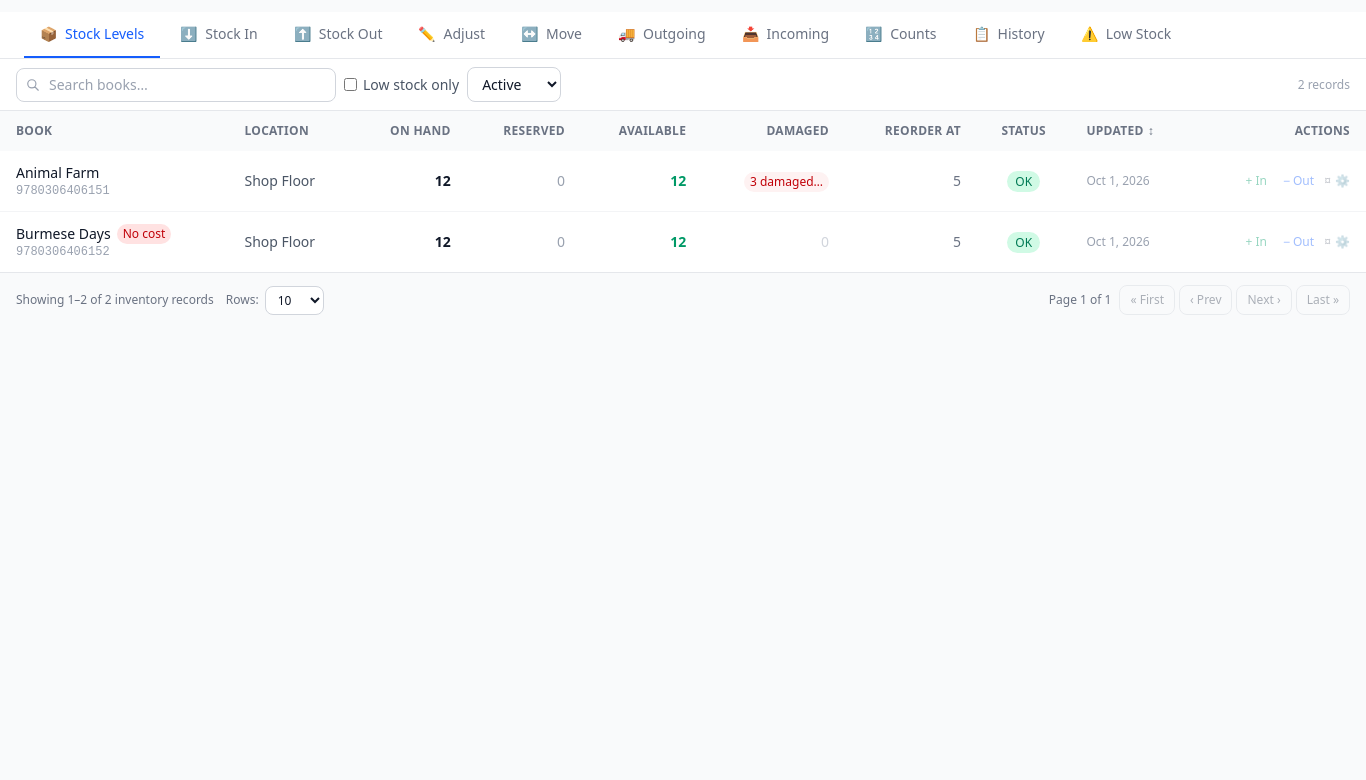
Test: Inventory: who may change stock › opens Stock Out with the row chosen from its "− Out" (was: an empty form)
The width and height of the screenshot is (1366, 780).
Expected: the text "Animal Farm" is shown, [16,163,99,183]
Click the button titled "Stock Out" in the row of "Animal Farm".
click(1299, 181)  # box [1277,171,1320,191]
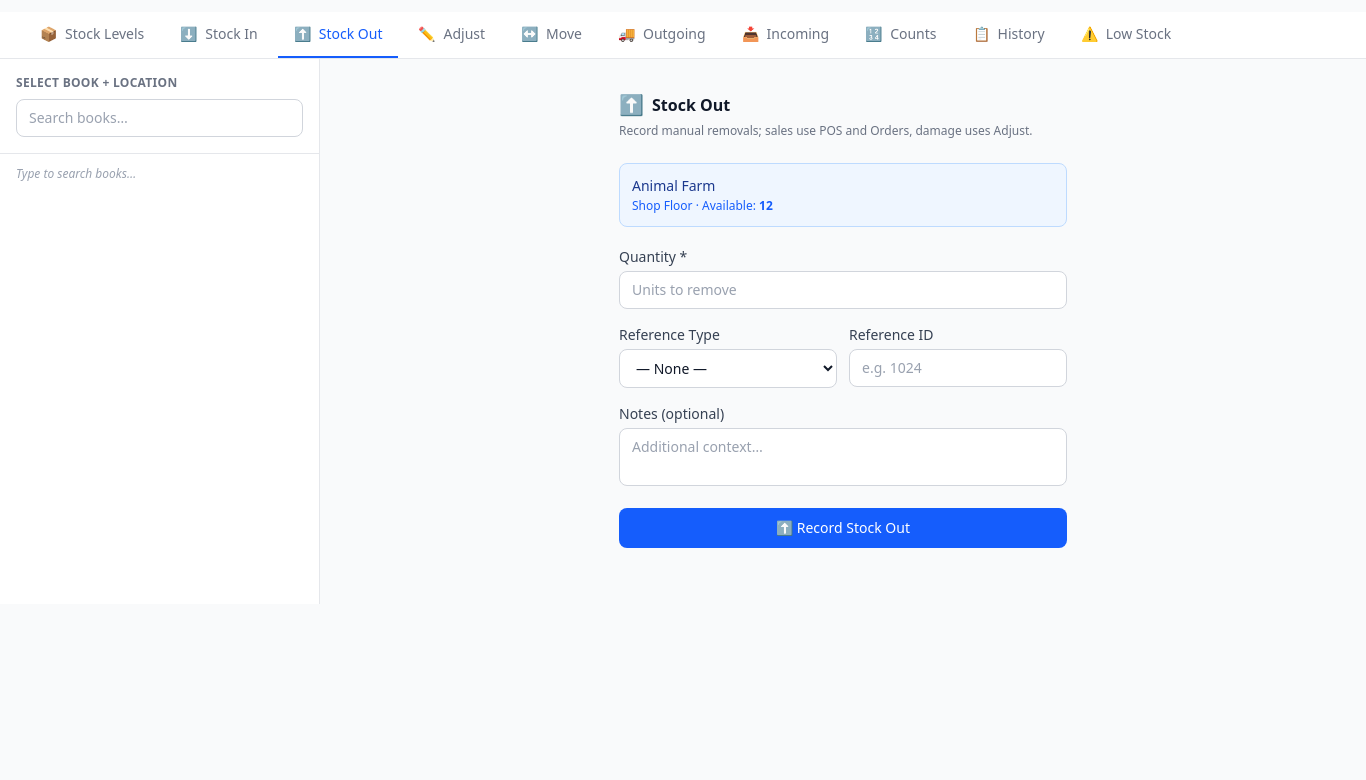
Expected: the text "Shop Floor · Available: 12" is shown, [632,197,773,214]
